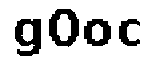0: (47, 5, 82, 50)
c: (116, 16, 145, 50)
g: (7, 16, 44, 57)
o: (82, 15, 113, 49)
